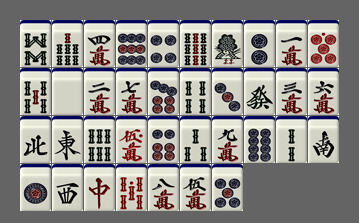0m: (116, 116, 147, 163)
0p: (308, 20, 339, 67)
0s: (116, 164, 147, 211)
1m: (276, 20, 307, 67)
1p: (20, 164, 51, 211)
1s: (212, 20, 243, 67)
1z: (52, 116, 83, 163)
2m: (84, 68, 115, 115)
2p: (244, 20, 275, 67)
2s: (276, 116, 307, 163)
2z: (308, 116, 339, 163)
3m: (276, 68, 307, 115)
3p: (212, 68, 243, 115)
3s: (180, 116, 211, 163)
3z: (52, 164, 83, 211)
4m: (84, 20, 115, 67)
4p: (148, 20, 179, 67)
4s: (180, 68, 211, 115)
4z: (20, 116, 51, 163)
5m: (180, 164, 211, 211)
5p: (212, 164, 243, 211)
5s: (20, 68, 51, 115)
5z: (52, 68, 83, 115)
6m: (308, 68, 339, 115)
6p: (148, 116, 179, 163)
6s: (84, 116, 115, 163)
6z: (244, 68, 275, 115)
7m: (116, 68, 147, 115)
7p: (148, 68, 179, 115)
7s: (52, 20, 83, 67)
7z: (84, 164, 115, 211)
8m: (148, 164, 179, 211)
8p: (244, 116, 275, 163)
8s: (20, 20, 51, 67)
9m: (212, 116, 243, 163)
9p: (116, 20, 147, 67)
9s: (180, 20, 211, 67)
